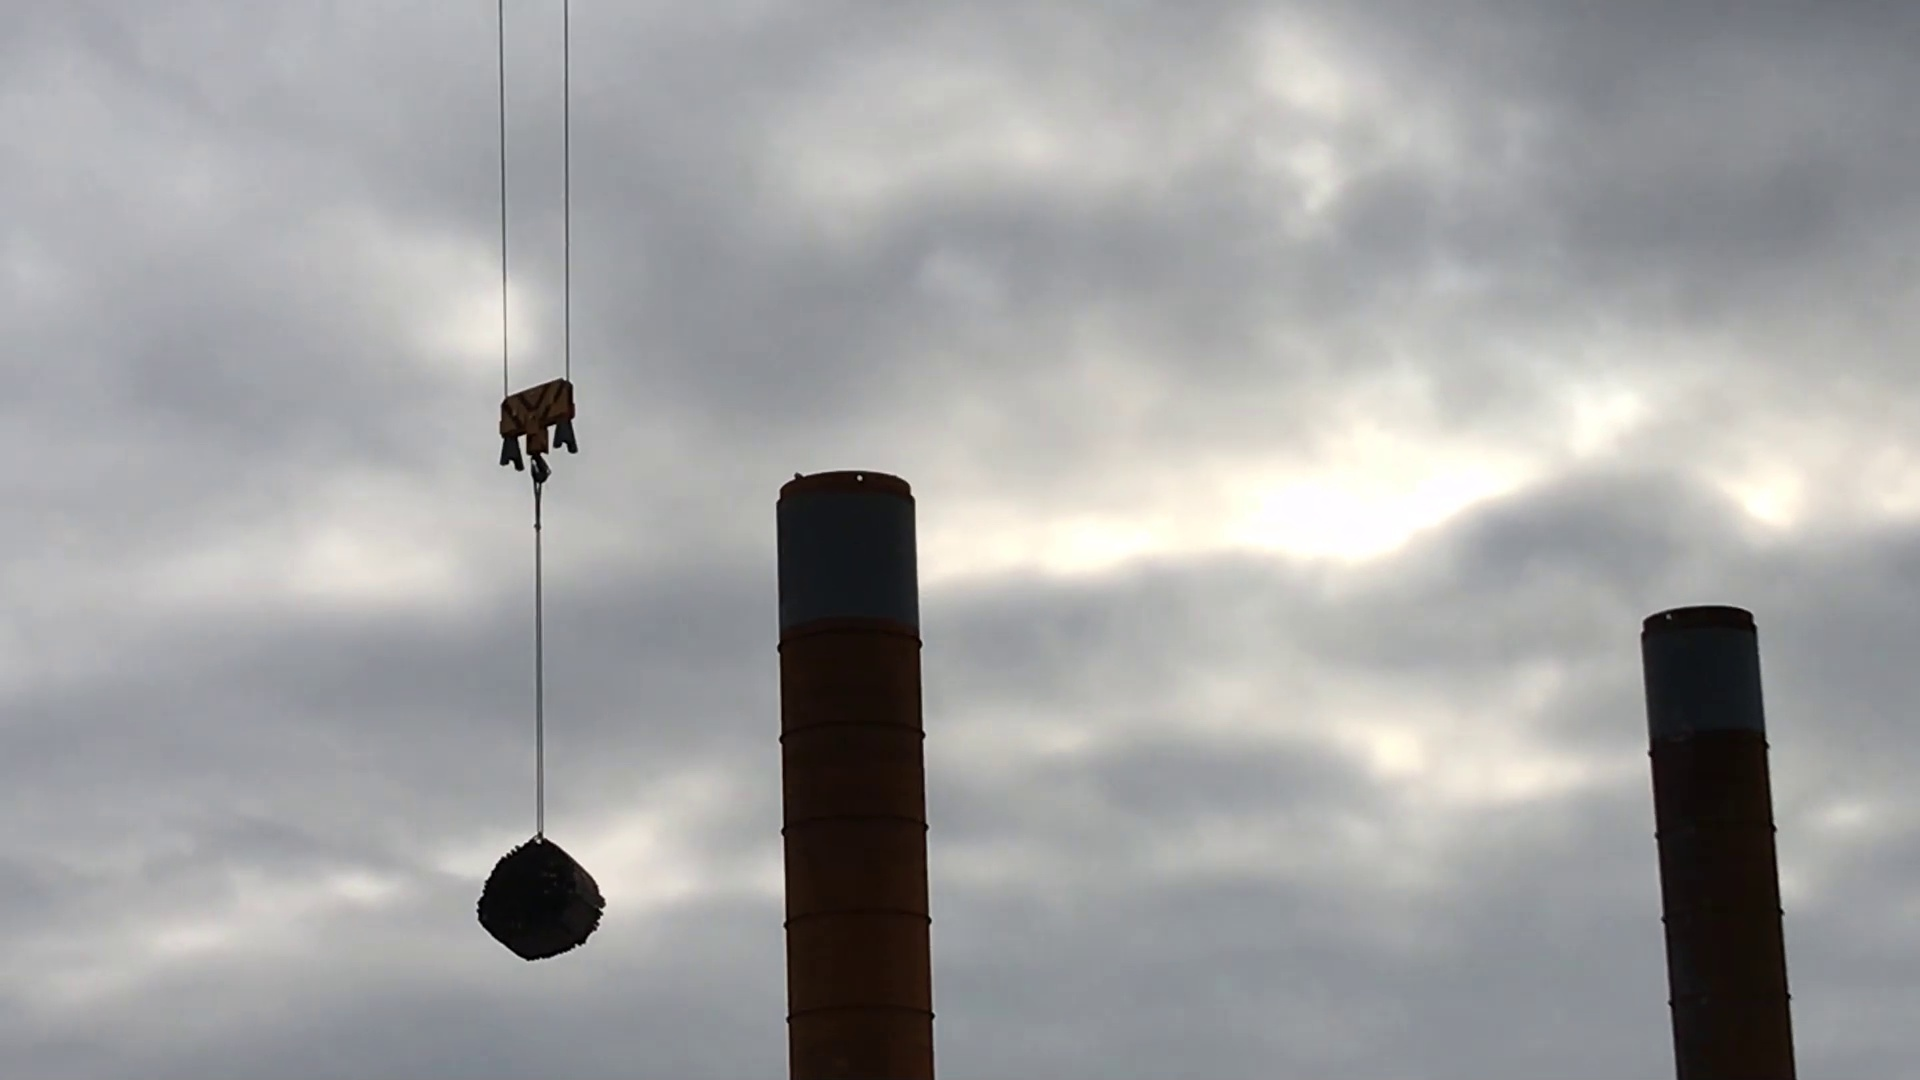hook: (491, 378, 579, 487)
